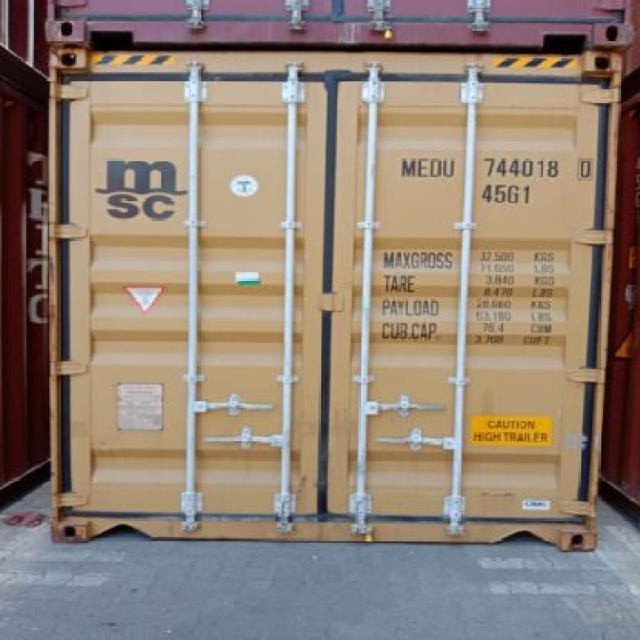ISO: (482, 184, 532, 204)
container_number: (402, 152, 586, 180)
